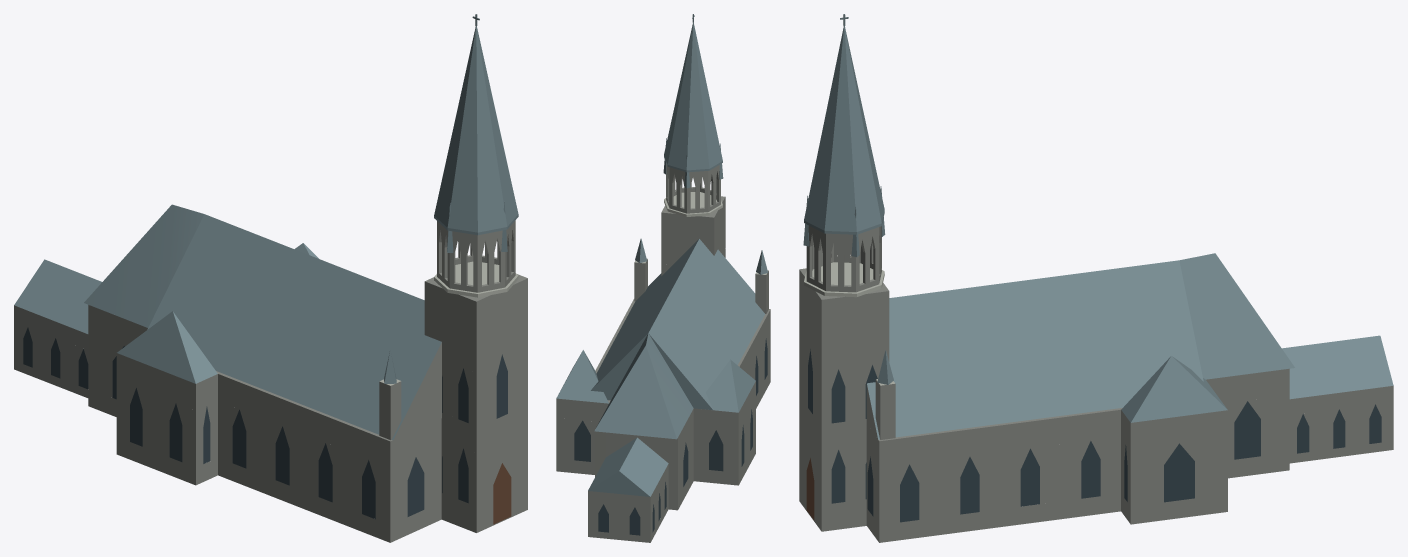
Rendered from eglise-saint-joachim-pointe-claire-near.glb.
3 views of the same model, side by side, from view 1: azimuth 30°, elevation 25°; view 2: azimuth 150°, elevation 25°; view 3: azimuth 270°, elevation 25° (orthographic). The views are drawn at different scales.
Parts seen in each view (by area): view 1: eglise-saint-joachim-pointe-claire-0-stone, eglise-saint-joachim-pointe-claire-0-roof, eglise-saint-joachim-pointe-claire-0-glass, eglise-saint-joachim-pointe-claire-0-trim, eglise-saint-joachim-pointe-claire-0-door; view 2: eglise-saint-joachim-pointe-claire-0-roof, eglise-saint-joachim-pointe-claire-0-stone, eglise-saint-joachim-pointe-claire-0-glass, eglise-saint-joachim-pointe-claire-0-trim; view 3: eglise-saint-joachim-pointe-claire-0-roof, eglise-saint-joachim-pointe-claire-0-stone, eglise-saint-joachim-pointe-claire-0-glass, eglise-saint-joachim-pointe-claire-0-trim.
Boxes of the visible parts, left/top/right/bottom form: eglise-saint-joachim-pointe-claire-0-stone: left=14, top=220, right=527, bottom=542; eglise-saint-joachim-pointe-claire-0-roof: left=14, top=26, right=518, bottom=439; eglise-saint-joachim-pointe-claire-0-glass: left=23, top=327, right=507, bottom=519; eglise-saint-joachim-pointe-claire-0-trim: left=379, top=261, right=518, bottom=385; eglise-saint-joachim-pointe-claire-0-door: left=493, top=463, right=511, bottom=524; eglise-saint-joachim-pointe-claire-0-roof: left=556, top=22, right=768, bottom=496; eglise-saint-joachim-pointe-claire-0-stone: left=556, top=164, right=770, bottom=542; eglise-saint-joachim-pointe-claire-0-glass: left=574, top=254, right=767, bottom=535; eglise-saint-joachim-pointe-claire-0-trim: left=635, top=192, right=768, bottom=274; eglise-saint-joachim-pointe-claire-0-roof: left=803, top=26, right=1393, bottom=439; eglise-saint-joachim-pointe-claire-0-stone: left=799, top=226, right=1393, bottom=542; eglise-saint-joachim-pointe-claire-0-glass: left=808, top=349, right=1381, bottom=522; eglise-saint-joachim-pointe-claire-0-trim: left=804, top=262, right=894, bottom=385.
Size of the model in its own units: 32.28 by 55.8 by 60.39.
